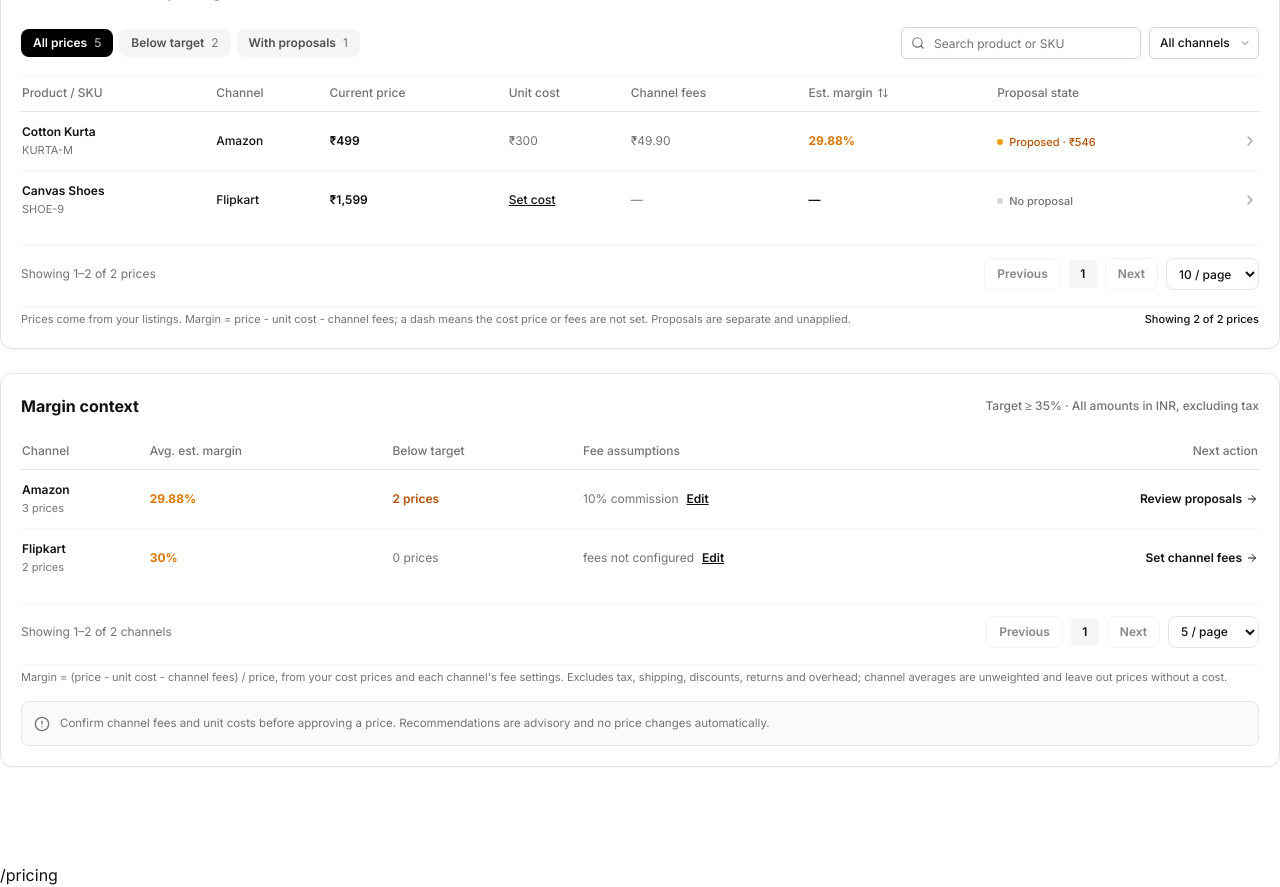
Test: Pricing overview tab (real data) › links the cost cell to the product's variants, and a channel without fees to the fee editor
(page scrolled)
Click the button "Set channel fees". click: (1202,558)
box: [1146, 550, 1258, 566]
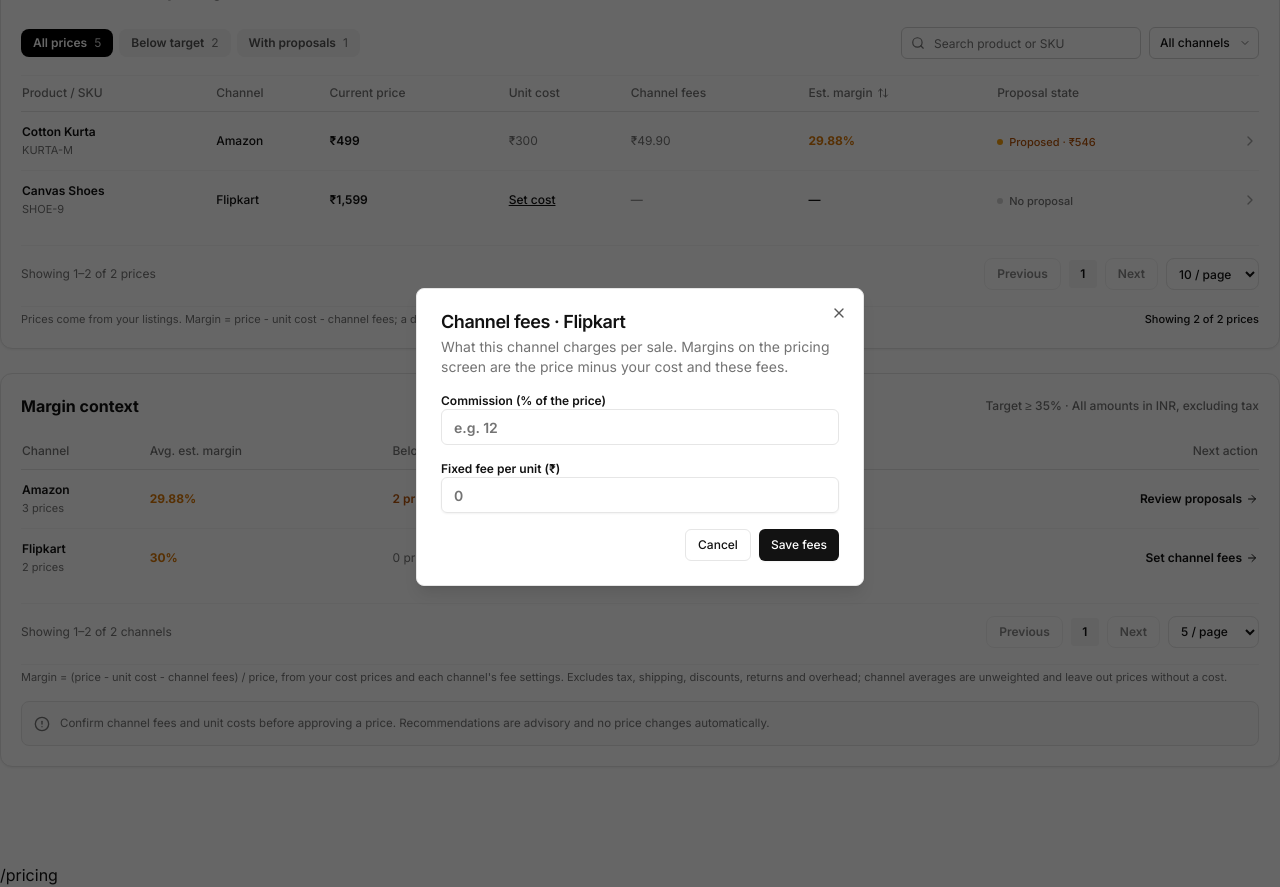
Now the dialog "Channel fees · Flipkart" is shown, box [416, 288, 864, 586]
